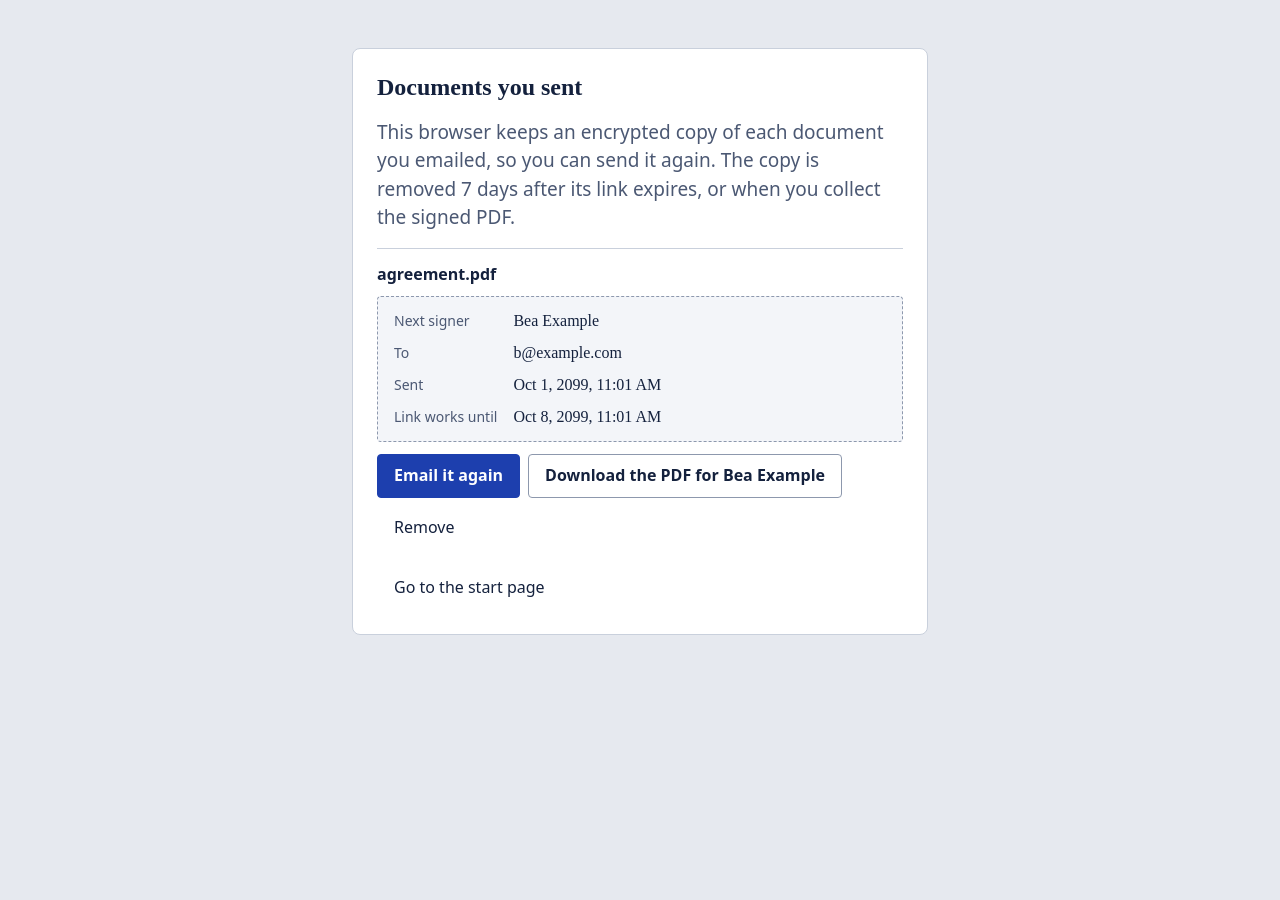
Documents you sent › leaves the old entry when the new send fails
The image size is (1280, 900).
What coordinates should you click on to do the following:
click the button with test id "sent-item-email"
I would click on:
 (449, 476)
Its box is [377,454,520,498].
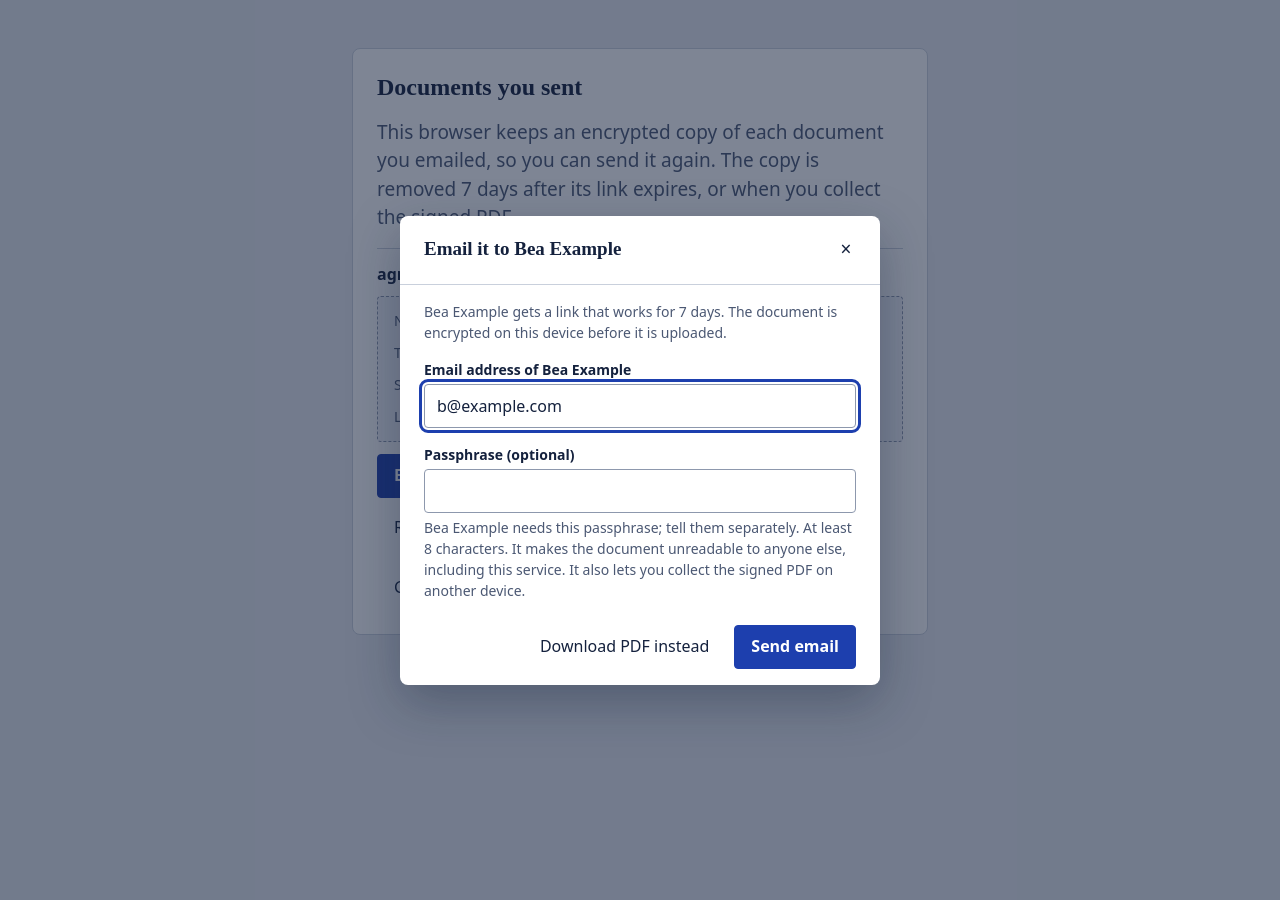
What coordinates should you click on to do the following:
click the button with test id "email-continue"
I would click on:
 (795, 646)
Its box is [734,624,856,668].
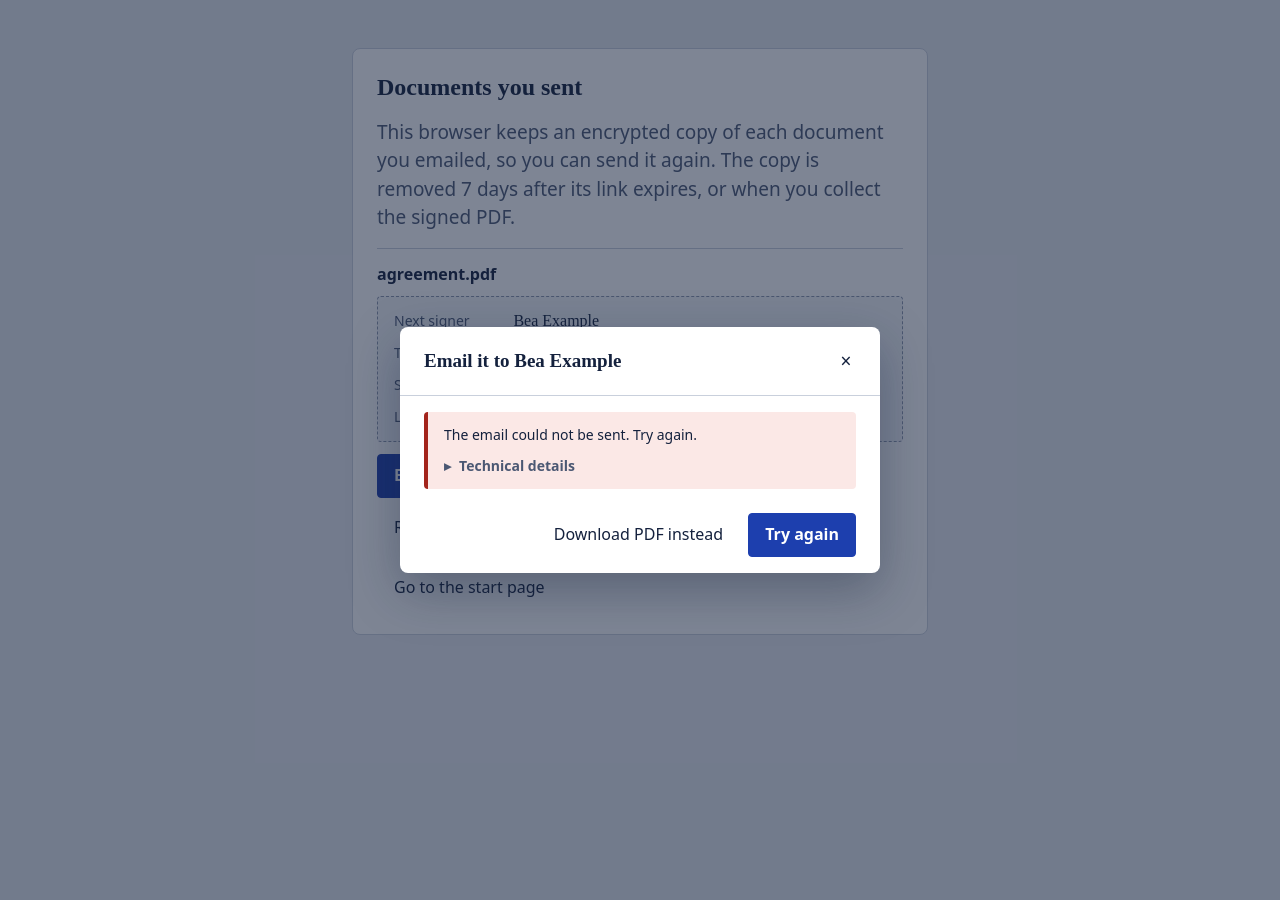
Now the message "The email could not be sent. Try again. Technical details" is shown, box [424,412,856,489]
